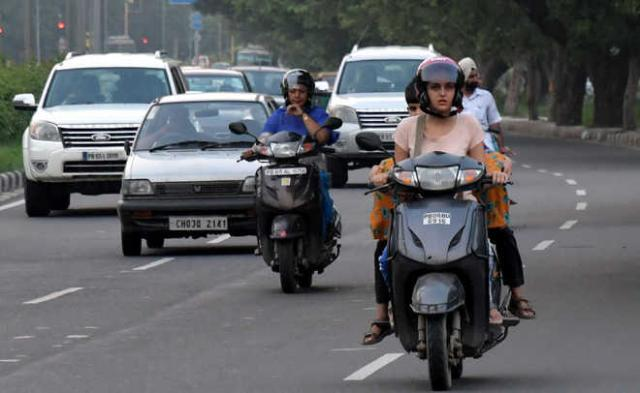licensePlate: (423, 212, 457, 227), (266, 169, 308, 175)
motorcycle: (362, 55, 529, 393), (251, 64, 350, 297)
withHelmet: (425, 60, 466, 116), (280, 66, 315, 115)
